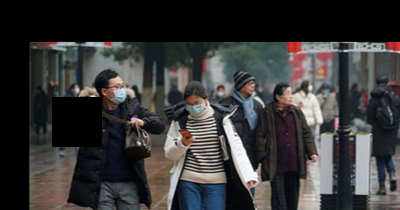with_mask: (109, 80, 126, 105), (185, 98, 205, 116), (217, 87, 225, 96), (322, 85, 330, 94), (307, 81, 313, 92), (74, 84, 80, 94)
without_mask: (282, 89, 293, 106), (244, 79, 256, 94)
